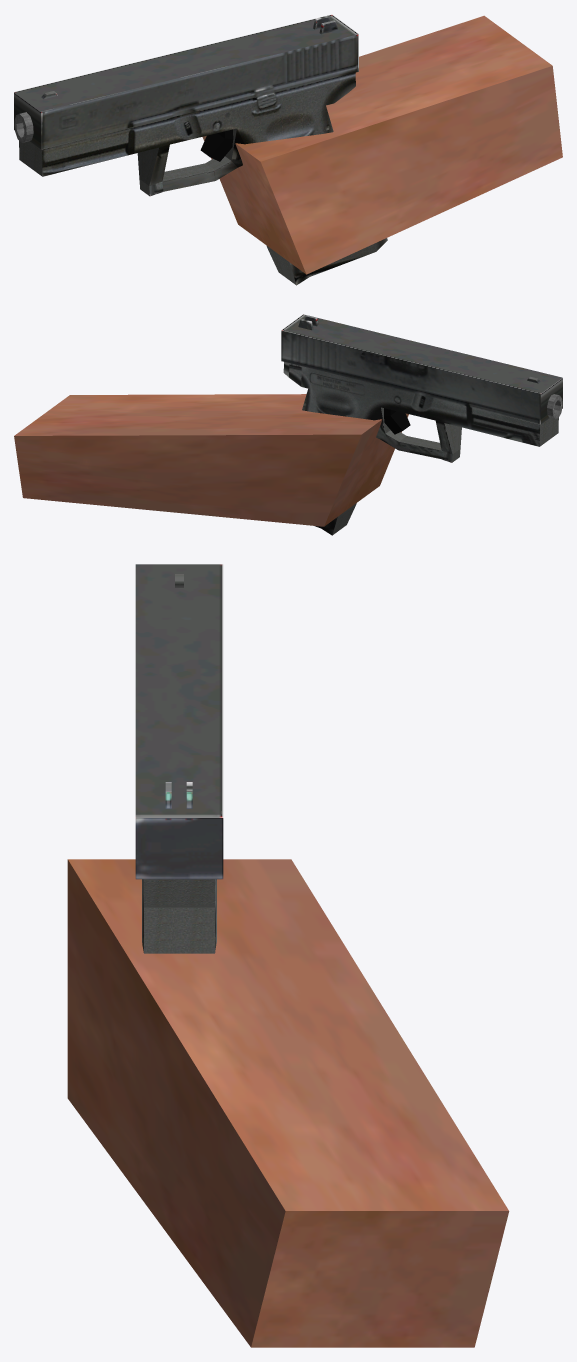
File: pistol_000016.obj
The picture shows the model from 3 angles, top to bottom: view 1: azimuth 30°, elevation 25°; view 2: azimuth 150°, elevation 25°; view 3: azimuth 270°, elevation 25°; orthographic projection. The views are drawn at different scales.
Parts seen in each view (by area): view 1: Cube, Cube.001, Cube.003; view 2: Cube, Cube.001, Cube.003; view 3: Cube, Cube.001.
Boxes of the visible parts, bbox=[...] form: Cube: bbox=[14, 15, 562, 285]; Cube.001: bbox=[14, 14, 358, 149]; Cube.003: bbox=[200, 129, 233, 161]; Cube: bbox=[14, 362, 562, 535]; Cube.001: bbox=[281, 314, 562, 424]; Cube.003: bbox=[384, 408, 410, 434]; Cube: bbox=[67, 859, 509, 1347]; Cube.001: bbox=[135, 564, 223, 879].
Bounding box in the file's own units: 1.74 × 0.735 × 0.7214.
